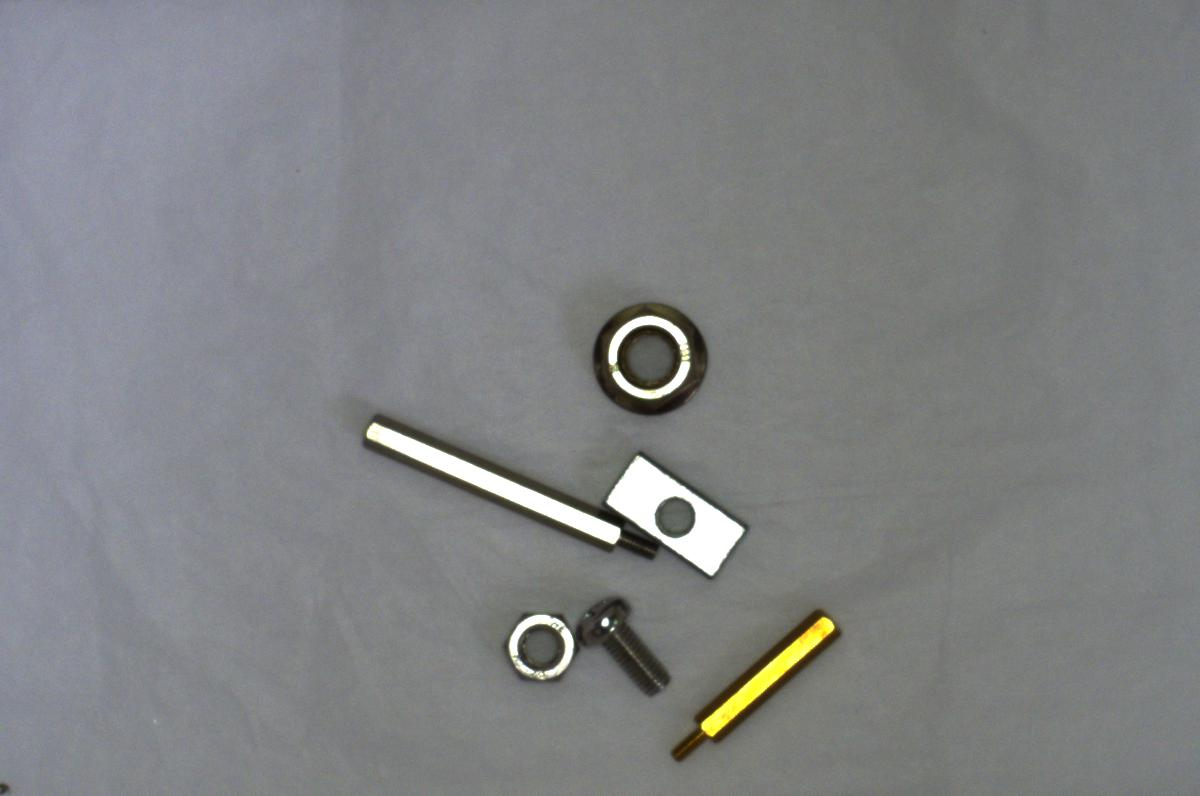Flange nut: (584, 290, 717, 418)
Hexagon nut: (499, 601, 581, 688)
Hexagon pillar: (667, 605, 844, 765)
Hexagonal steel column: (355, 413, 661, 566)
Rectangular nut: (602, 448, 748, 578)
Round head screw: (577, 593, 672, 699)
